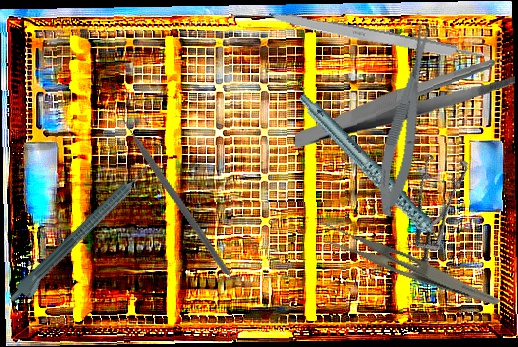Chopper: (77, 103, 278, 276)
Dressing Forceps: (291, 58, 518, 149), (312, 218, 507, 308)
Handpiece: (297, 69, 453, 284), (6, 162, 158, 311)
Micro Scissor: (369, 22, 444, 219)
Scalpel Handle: (267, 9, 485, 66)
Speculum: (363, 136, 503, 276)
